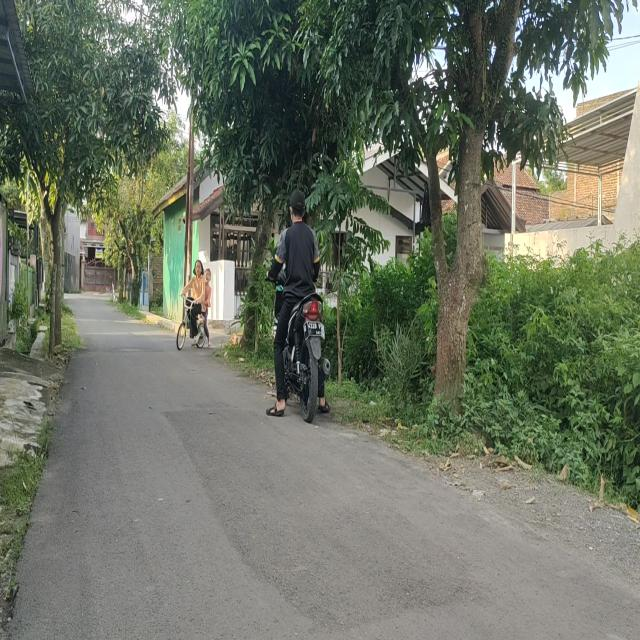no-helmet: (291, 189, 306, 224)
